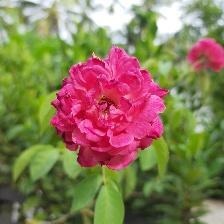rose: (49, 45, 172, 173)
